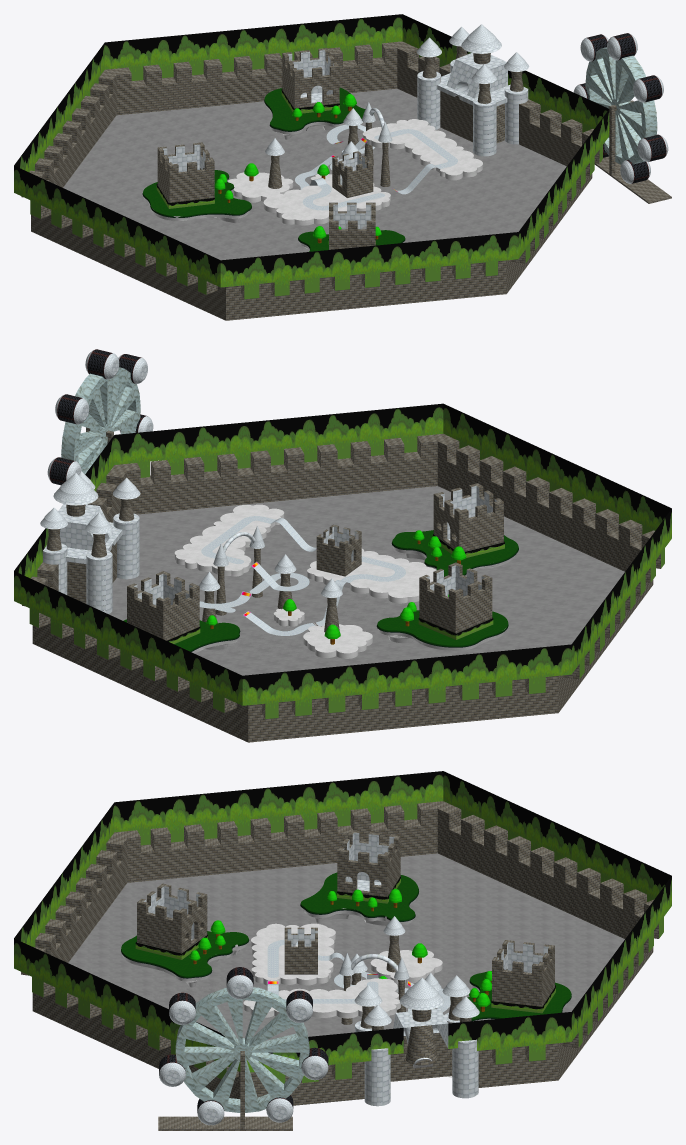
3 views of the same model, one above another, from view 1: azimuth 30°, elevation 25°; view 2: azimuth 150°, elevation 25°; view 3: azimuth 270°, elevation 25° (orthographic). The views are drawn at different scales.
Parts seen in each view (by area): view 1: race_SKP__brick.001, race_SKP__background.001, race_SKP__stormcloud.001, race_SKP__brick2.001, race_SKP__cloud.001, race_SKP__wheel.001, race_SKP__grass.001, race_SKP__Material1.001, race_SKP__girlde.001, race_SKP__tree.001, race_SKP__rim.001; view 2: race_SKP__brick.001, race_SKP__background.001, race_SKP__stormcloud.001, race_SKP__brick2.001, race_SKP__cloud.001, race_SKP__wheel.001, race_SKP__grass.001, race_SKP__Material1.001, race_SKP__girlde.001, race_SKP__tree.001, race_SKP__rim.001; view 3: race_SKP__brick.001, race_SKP__background.001, race_SKP__stormcloud.001, race_SKP__brick2.001, race_SKP__wheel.001, race_SKP__cloud.001, race_SKP__grass.001, race_SKP__tree.001, race_SKP__Material1.001, race_SKP__girlde.001, race_SKP__rim.001.
Boxes of the visible parts, <box> form: race_SKP__brick.001: <box>21,41,671,320</box>; race_SKP__background.001: <box>14,14,609,299</box>; race_SKP__stormcloud.001: <box>63,88,566,260</box>; race_SKP__brick2.001: <box>163,24,668,229</box>; race_SKP__cloud.001: <box>143,76,482,249</box>; race_SKP__wheel.001: <box>585,47,657,164</box>; race_SKP__grass.001: <box>143,87,404,251</box>; race_SKP__Material1.001: <box>295,124,457,210</box>; race_SKP__girlde.001: <box>579,33,666,183</box>; race_SKP__tree.001: <box>214,94,381,238</box>; race_SKP__rim.001: <box>142,88,405,249</box>; race_SKP__brick.001: <box>22,427,660,742</box>; race_SKP__background.001: <box>14,403,671,719</box>; race_SKP__stormcloud.001: <box>109,486,624,675</box>; race_SKP__brick2.001: <box>40,350,497,614</box>; race_SKP__cloud.001: <box>174,504,517,658</box>; race_SKP__wheel.001: <box>61,367,140,474</box>; race_SKP__grass.001: <box>123,530,518,650</box>; race_SKP__Material1.001: <box>199,516,405,635</box>; race_SKP__girlde.001: <box>49,349,147,485</box>; race_SKP__tree.001: <box>206,530,466,638</box>; race_SKP__rim.001: <box>189,542,518,651</box>; race_SKP__brick.001: <box>21,801,658,1130</box>; race_SKP__background.001: <box>14,771,671,1083</box>; race_SKP__stormcloud.001: <box>68,853,624,1040</box>; race_SKP__brick2.001: <box>143,832,548,1125</box>; race_SKP__wheel.001: <box>175,987,309,1112</box>; race_SKP__cloud.001: <box>122,874,570,1077</box>; race_SKP__grass.001: <box>121,872,571,1018</box>; race_SKP__tree.001: <box>189,889,491,1006</box>; race_SKP__Material1.001: <box>267,939,450,1012</box>; race_SKP__girlde.001: <box>159,967,328,1112</box>; race_SKP__rim.001: <box>121,888,571,1021</box>.
Bounding box in the file's own units: 182674 × 45738 × 178040.
14 materials, 14 textured.
